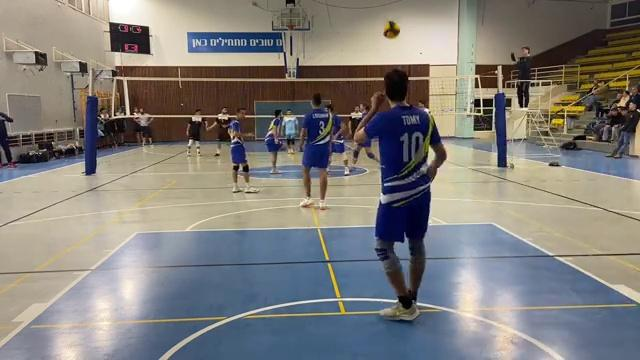ball: (384, 22, 400, 38)
